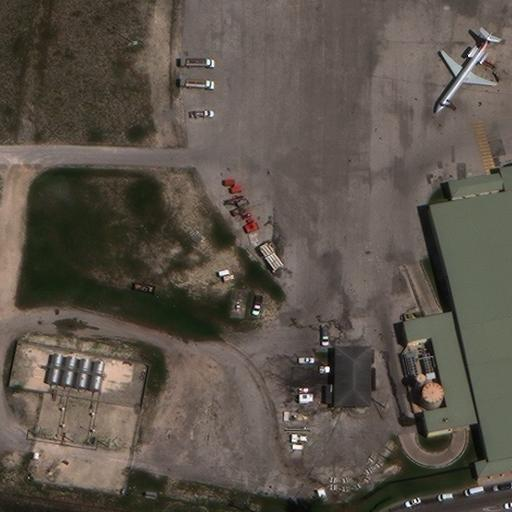Medium Civil Transport: (435, 30, 494, 115)
